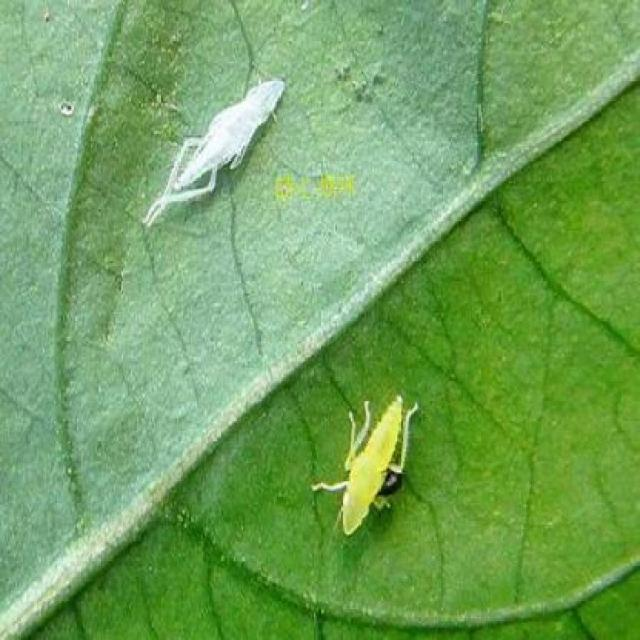green-leafhopper: (321, 388, 417, 538)
